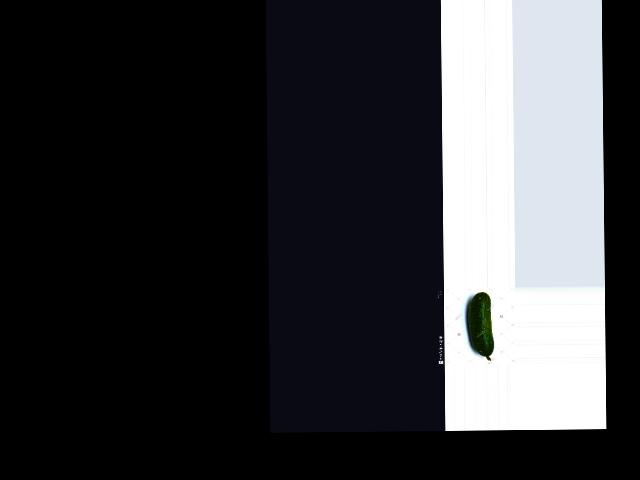cucumber: (467, 291, 494, 360)
